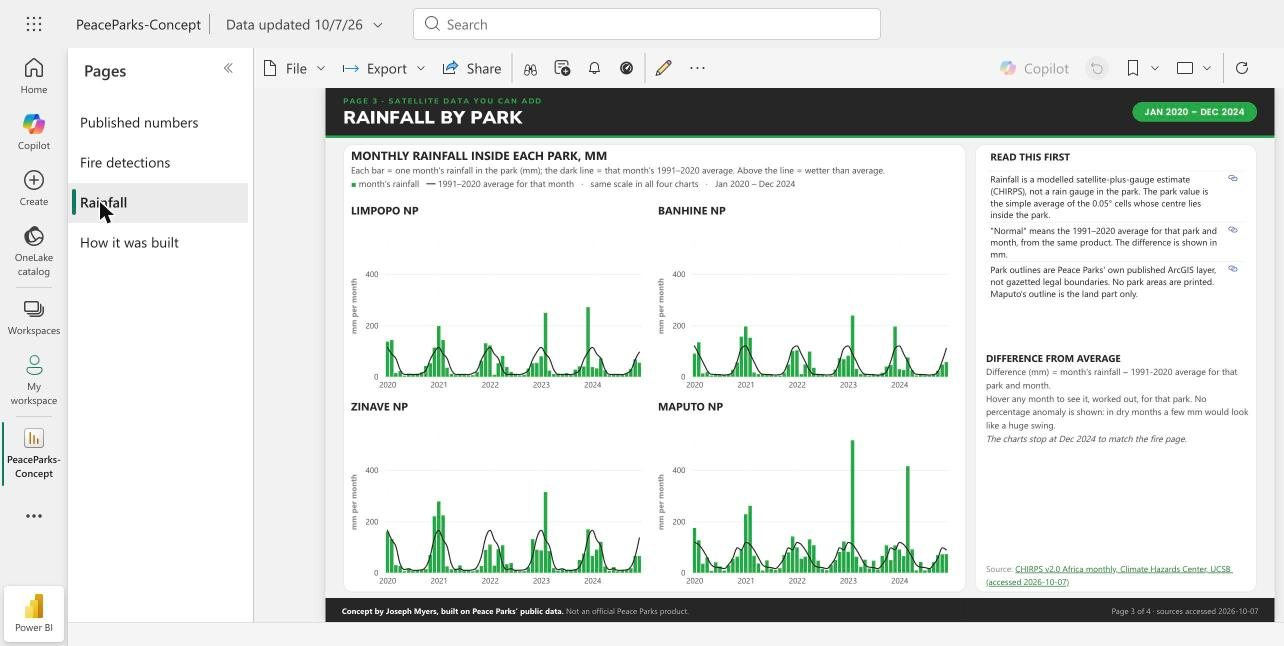

This screenshot's page, from the dashboard's own definition file:
{"tool":"powerbi","page":{"name":"Rainfall","canvas":[1280,720],"ordinal":2},"visuals":[{"type":"textbox","box":[32,80,824,70],"z":3001},{"type":"lineClusteredColumnComboChart","title":"LIMPOPO NP","fields":{"Category":["P2_Rainfall12.MonthDate"],"Y":["P2_Rainfall12.Rain mm"],"Y2":["P2_Rainfall12.Normal mm"]},"box":[32,152,410,260],"z":3002},{"type":"lineClusteredColumnComboChart","title":"BANHINE NP","fields":{"Category":["P2_Rainfall12.MonthDate"],"Y":["P2_Rainfall12.Rain mm"],"Y2":["P2_Rainfall12.Normal mm"]},"box":[446,152,410,260],"z":3003},{"type":"lineClusteredColumnComboChart","title":"ZINAVE NP","fields":{"Category":["P2_Rainfall12.MonthDate"],"Y":["P2_Rainfall12.Rain mm"],"Y2":["P2_Rainfall12.Normal mm"]},"box":[32,416,410,260],"z":3004},{"type":"lineClusteredColumnComboChart","title":"MAPUTO NP","fields":{"Category":["P2_Rainfall12.MonthDate"],"Y":["P2_Rainfall12.Rain mm"],"Y2":["P2_Rainfall12.Normal mm"]},"box":[446,416,410,260],"z":3005},{"type":"tableEx","fields":{"Values":["P3_Caveats16.PageText","P3_Caveats16.Source","P3_Caveats16.CaveatNo"]},"box":[884,80,364,270],"z":3006},{"type":"textbox","box":[884,354,364,280],"z":3007},{"type":"textbox","box":[884,638,364,39],"z":3008},{"type":"textbox","box":[0,688,860,32],"z":3900},{"type":"textbox","box":[860,688,420,32],"z":3901}]}

Visuals, with their boxes on the page's 1280x720 design canvas (x1, y1, x2, y2). These are canvas units, not pixel positions in the 1284x646 screenshot, which may show the page scaled, cropped or inside an application window:
textbox: l=32, t=80, r=856, b=150
"LIMPOPO NP" lineClusteredColumnComboChart: l=32, t=152, r=442, b=412
"BANHINE NP" lineClusteredColumnComboChart: l=446, t=152, r=856, b=412
"ZINAVE NP" lineClusteredColumnComboChart: l=32, t=416, r=442, b=676
"MAPUTO NP" lineClusteredColumnComboChart: l=446, t=416, r=856, b=676
tableEx - P3_Caveats16.PageText x P3_Caveats16.Source: l=884, t=80, r=1248, b=350
textbox: l=884, t=354, r=1248, b=634
textbox: l=884, t=638, r=1248, b=677
textbox: l=0, t=688, r=860, b=720
textbox: l=860, t=688, r=1280, b=720
